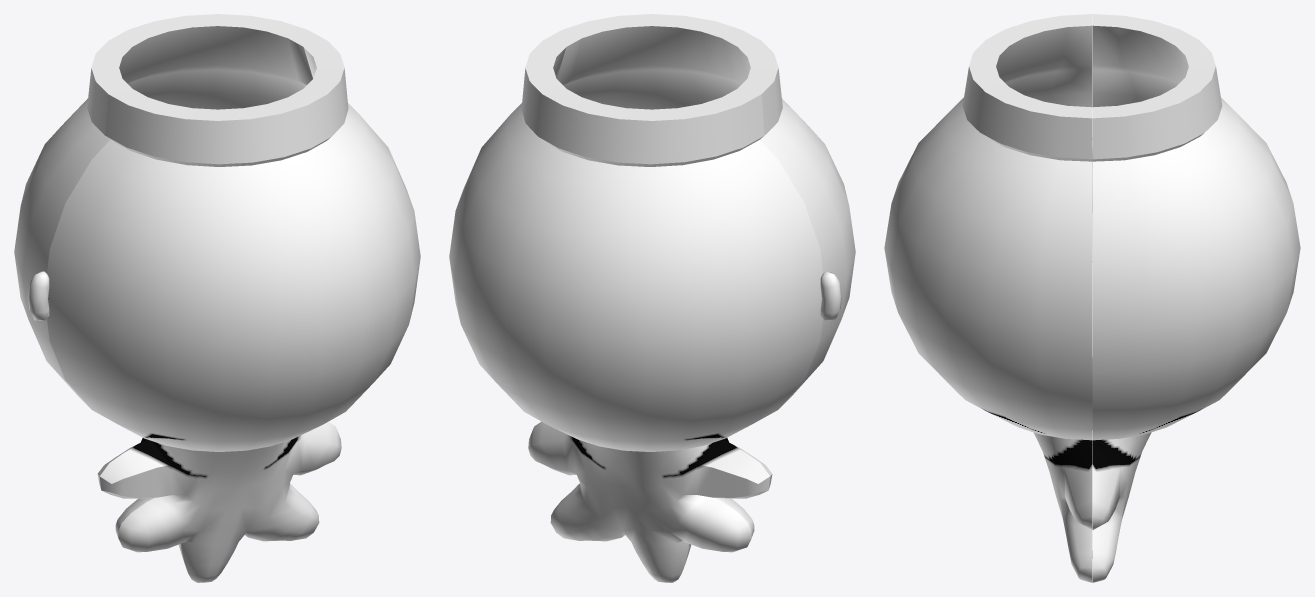
The model's file is 新雪糕工厂-制作雪糕-雪糕和模具02-瓶子.FBX.
3 views of the same model, side by side, from view 1: azimuth 30°, elevation 25°; view 2: azimuth 150°, elevation 25°; view 3: azimuth 270°, elevation 25° (orthographic). The views are drawn at different scales.
Visible parts, largest first — view 1: 新雪糕工厂-制作雪糕-雪糕和模具02-瓶子; view 2: 新雪糕工厂-制作雪糕-雪糕和模具02-瓶子; view 3: 新雪糕工厂-制作雪糕-雪糕和模具02-瓶子.
Boxes of the visible parts, left/top/right/bottom form: 新雪糕工厂-制作雪糕-雪糕和模具02-瓶子: left=14, top=14, right=420, bottom=582; 新雪糕工厂-制作雪糕-雪糕和模具02-瓶子: left=449, top=14, right=855, bottom=582; 新雪糕工厂-制作雪糕-雪糕和模具02-瓶子: left=884, top=14, right=1300, bottom=582.
Size of the model in its own units: 17.6 by 23.86 by 18.02.
